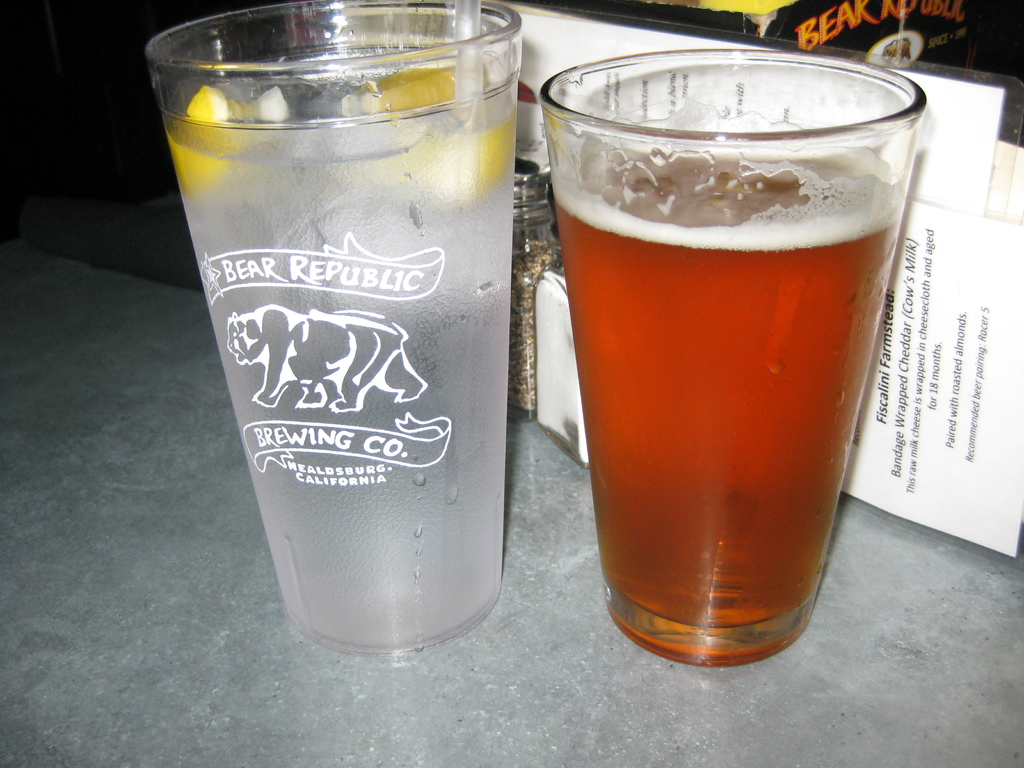Beer: (549, 135, 898, 622)
